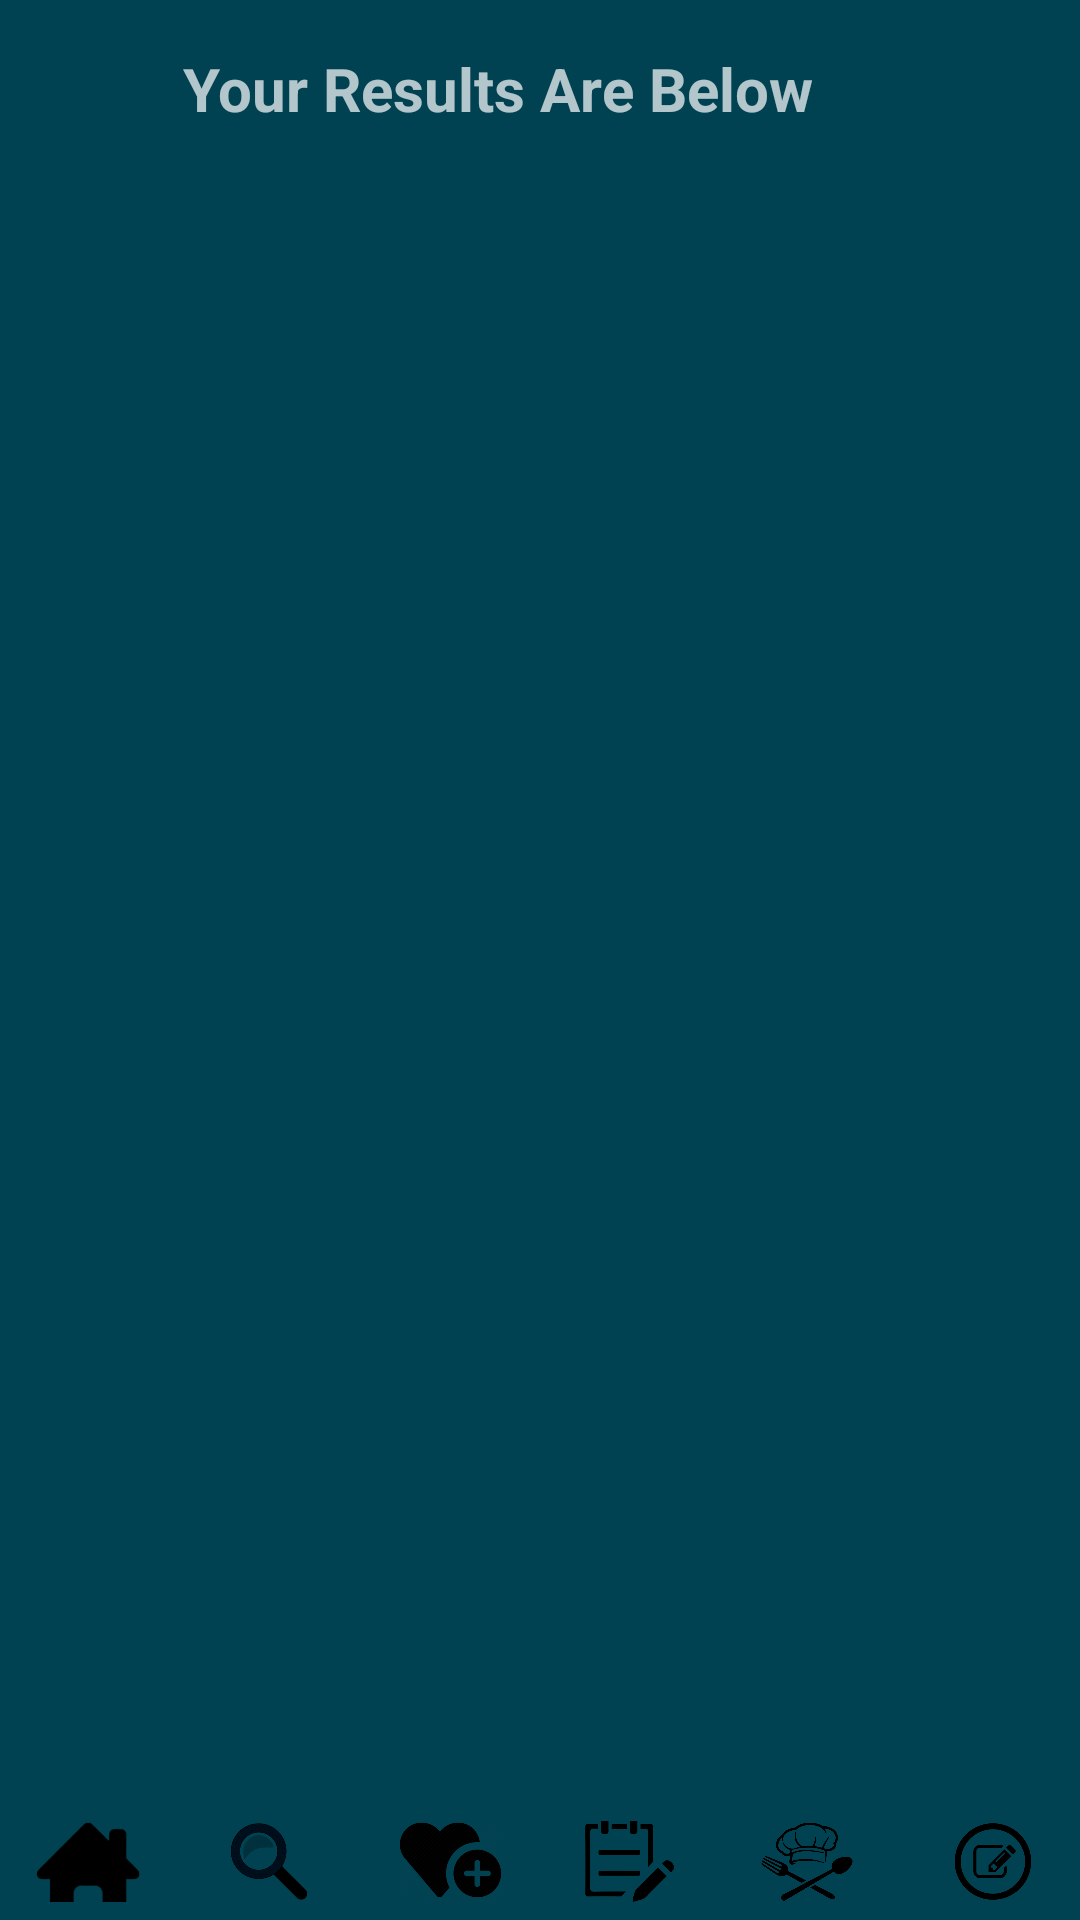

Named icons in this screenshot (1080 × 1920) and their bounding boxes, box=[x1, y1, x2, y2]:
chef: box=[762, 1823, 853, 1901]
home: box=[37, 1823, 139, 1902]
saved: box=[400, 1823, 501, 1897]
